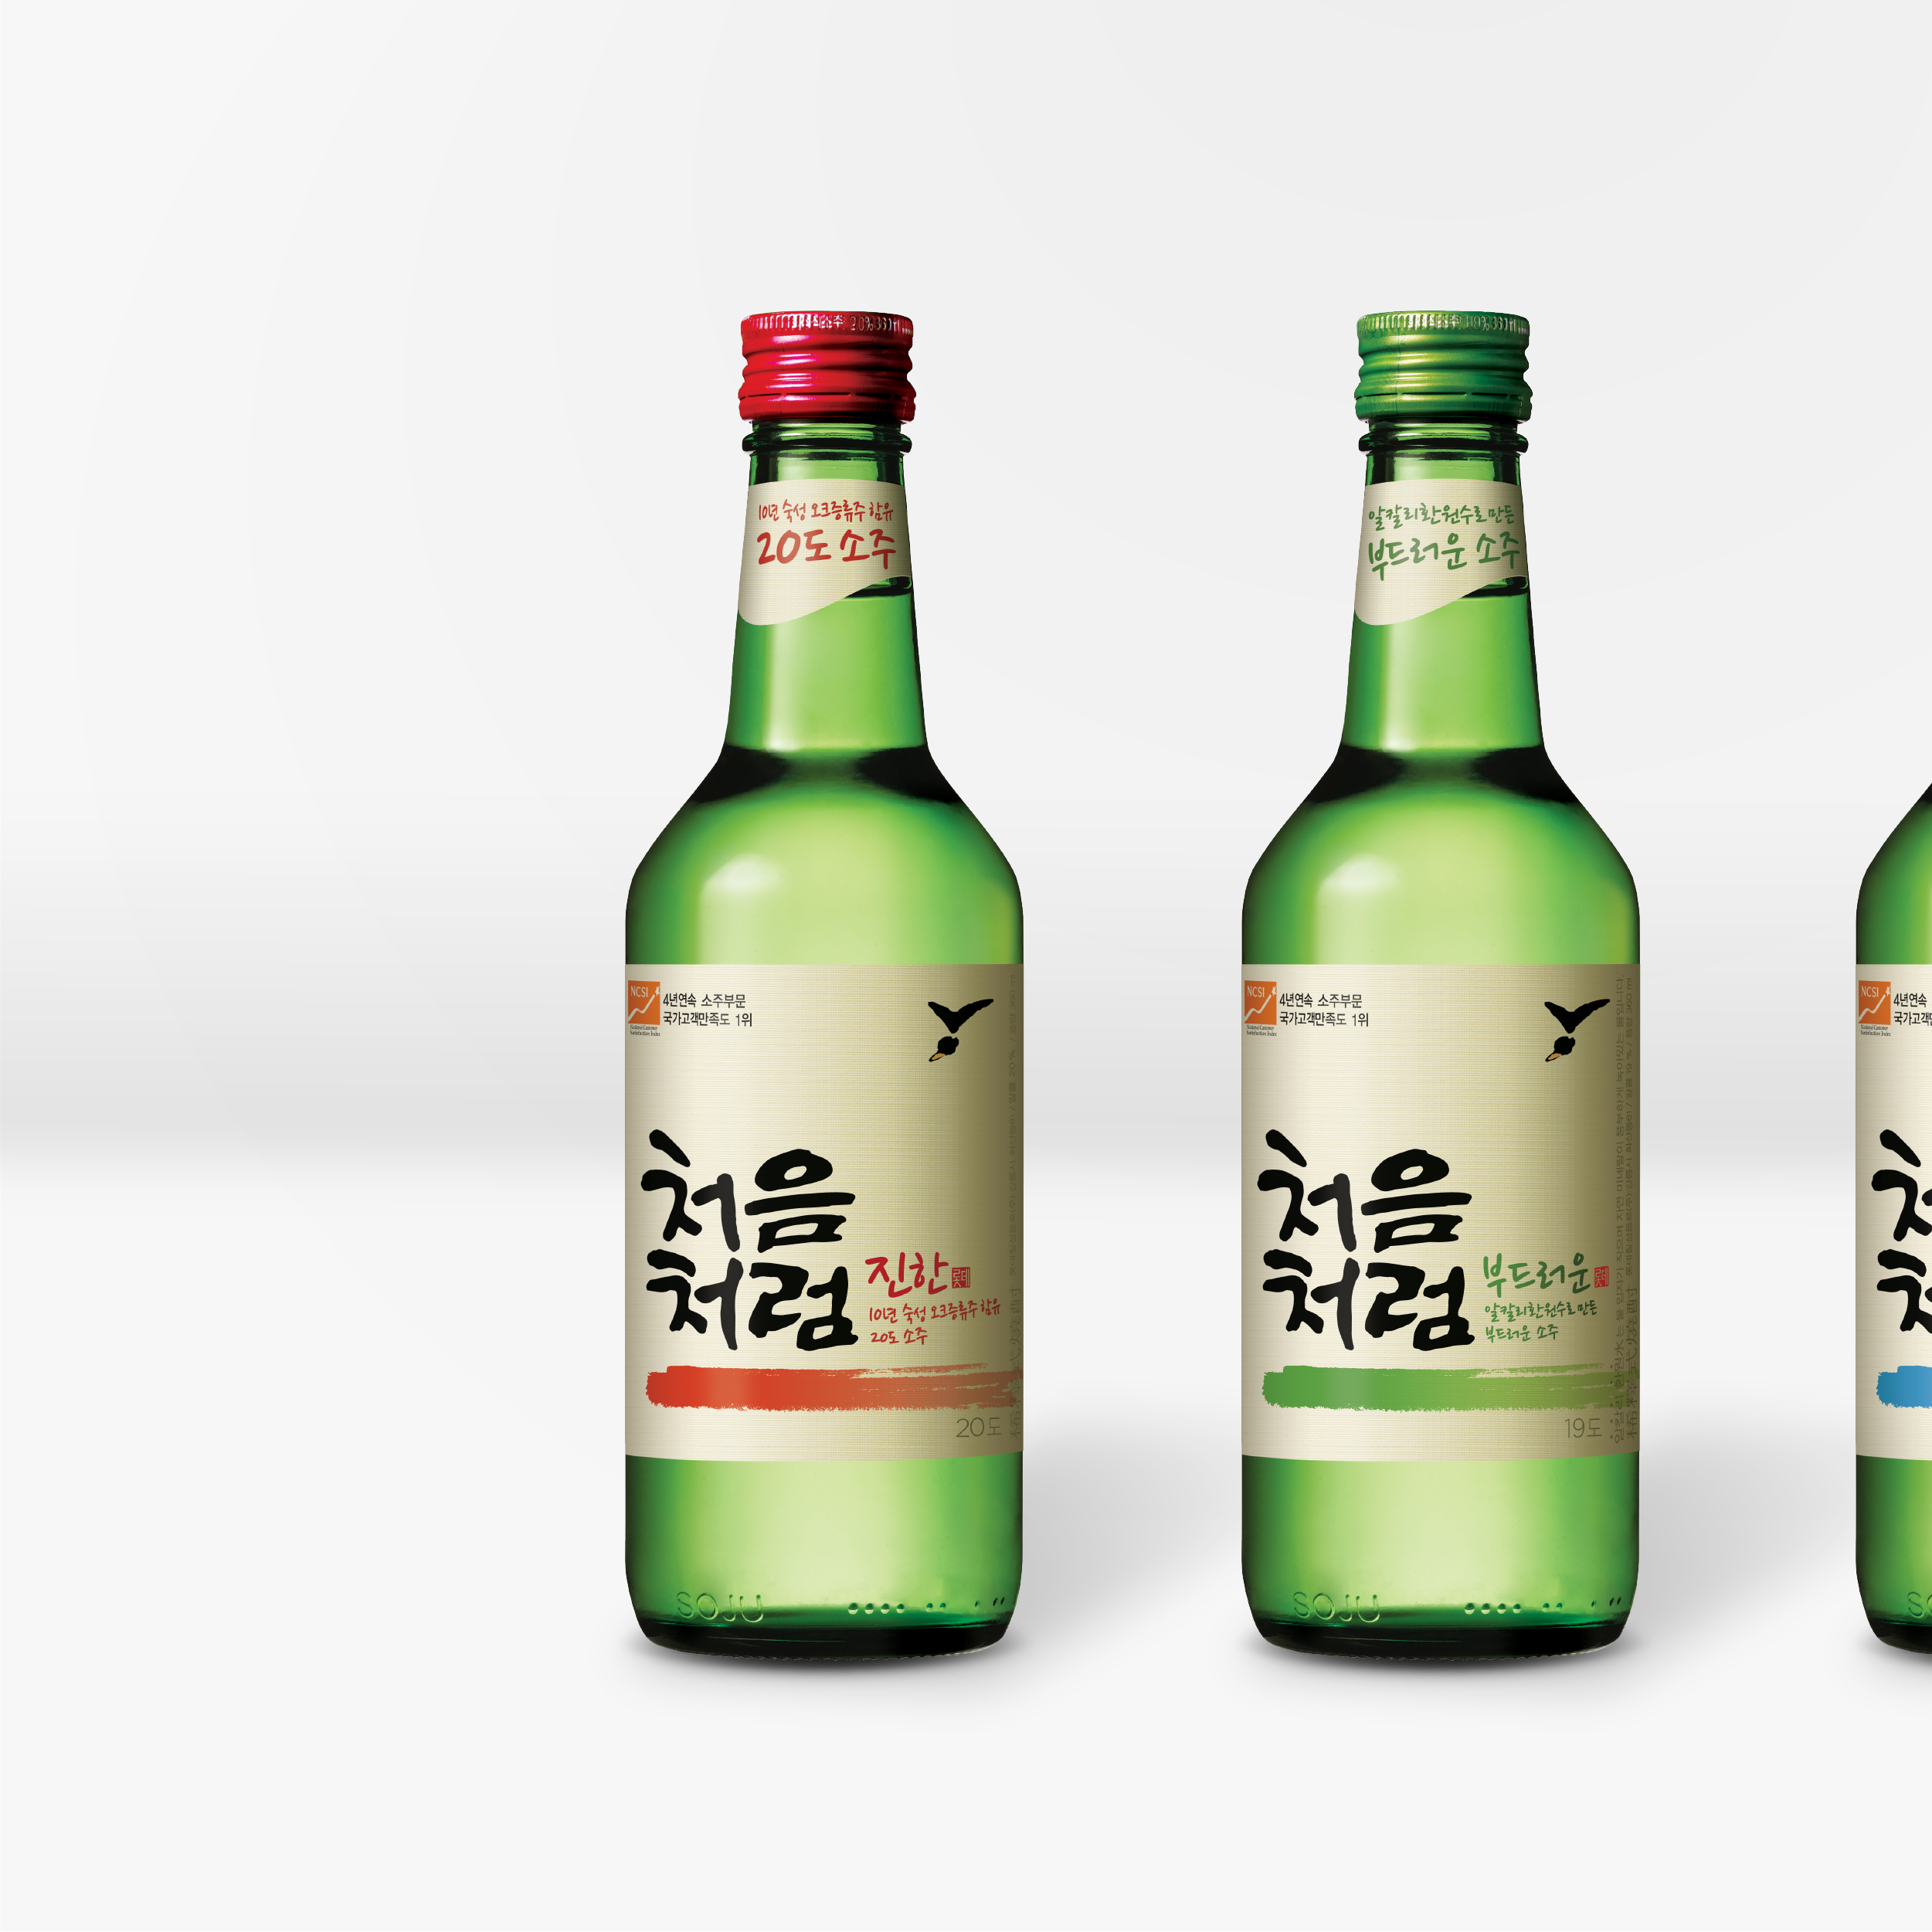soju: (600, 294, 1681, 1679)
